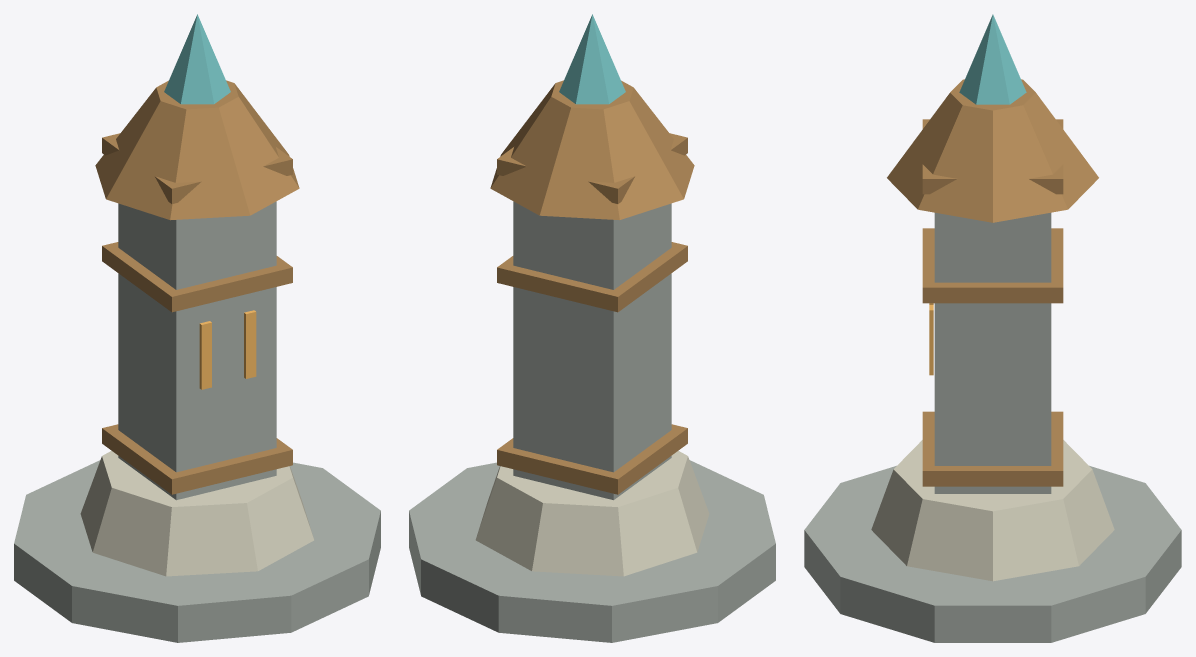
File: SM_Waystone.fbx
3 renders of one model, left to right at view 1: azimuth 30°, elevation 25°; view 2: azimuth 150°, elevation 25°; view 3: azimuth 270°, elevation 25°, orthographic.
Parts seen in each view (by area): view 1: SM_Waystone; view 2: SM_Waystone; view 3: SM_Waystone.
Part boxes in pixels (x1=…): SM_Waystone: x1=14, y1=14, x2=380, y2=642; SM_Waystone: x1=409, y1=14, x2=775, y2=642; SM_Waystone: x1=804, y1=14, x2=1181, y2=642.
Bounding box in the file's own units: 2.09 × 2.2 × 3.56.
